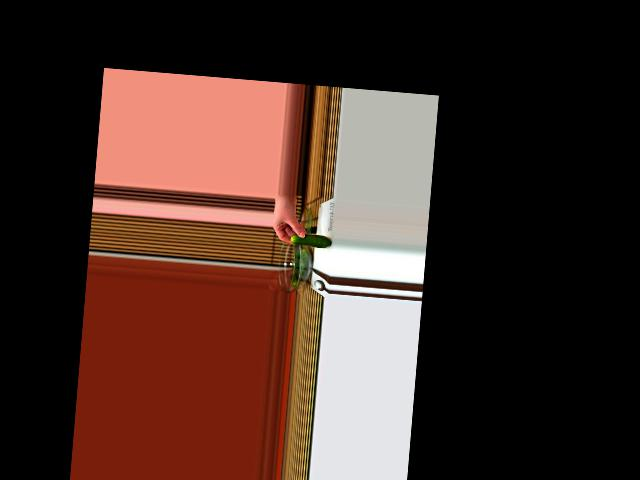cucumber: (290, 232, 331, 248)
